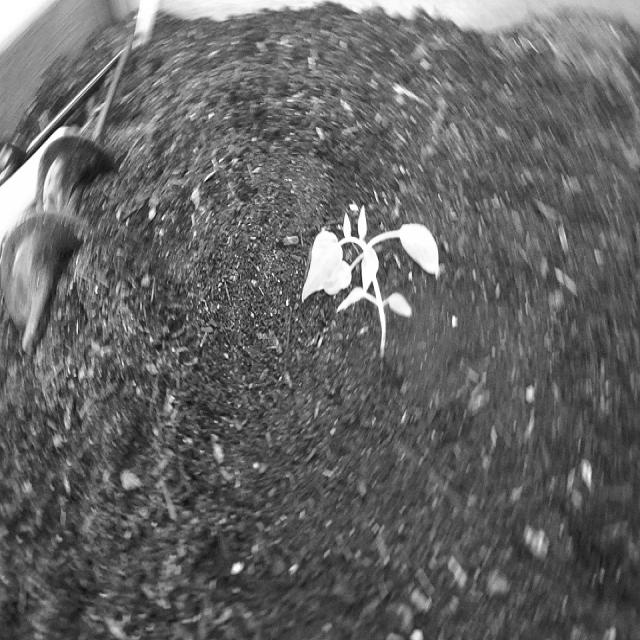Unhealthy: (296, 197, 446, 364)
